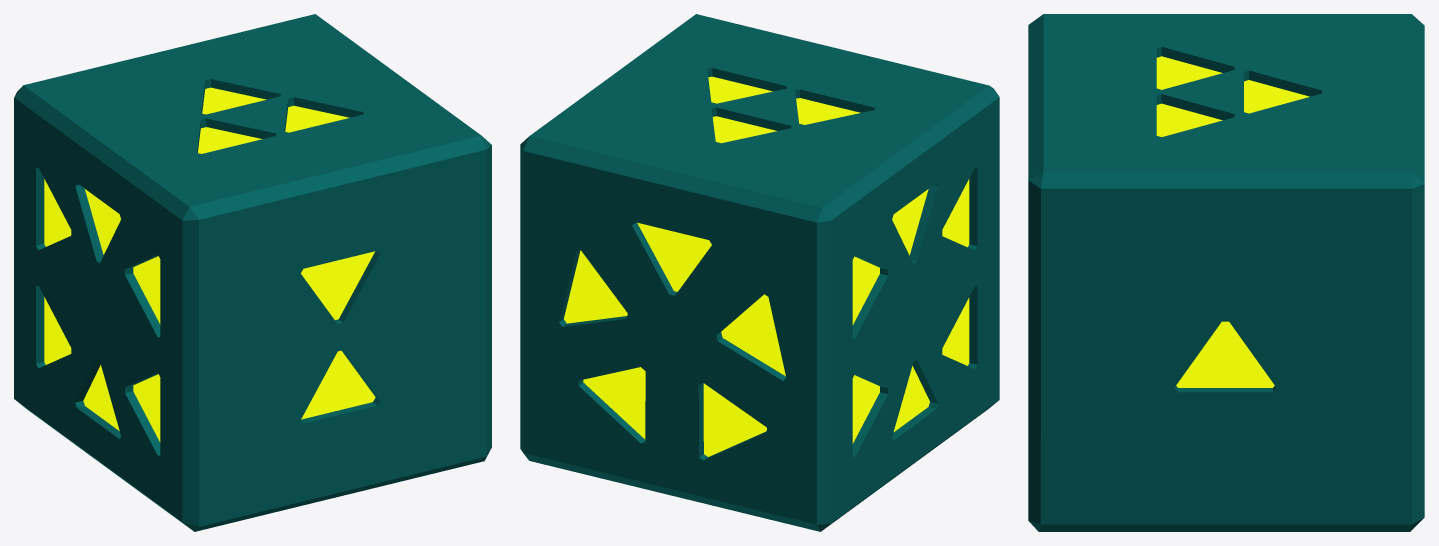
3 renders of one model, left to right at view 1: azimuth 30°, elevation 25°; view 2: azimuth 150°, elevation 25°; view 3: azimuth 270°, elevation 25°, orthographic. The views are drawn at different scales.
Visible parts, largest first — view 1: Cube.002, Cube; view 2: Cube.002, Cube; view 3: Cube.002, Cube.
Part boxes in pixels (bbox=[...]): Cube.002: bbox=[14, 14, 491, 531]; Cube: bbox=[44, 87, 375, 442]; Cube.002: bbox=[520, 14, 999, 531]; Cube: bbox=[564, 76, 969, 456]; Cube.002: bbox=[1028, 14, 1424, 531]; Cube: bbox=[1156, 56, 1309, 387].
Bounding box in the file's own units: 200 × 200 × 200.
